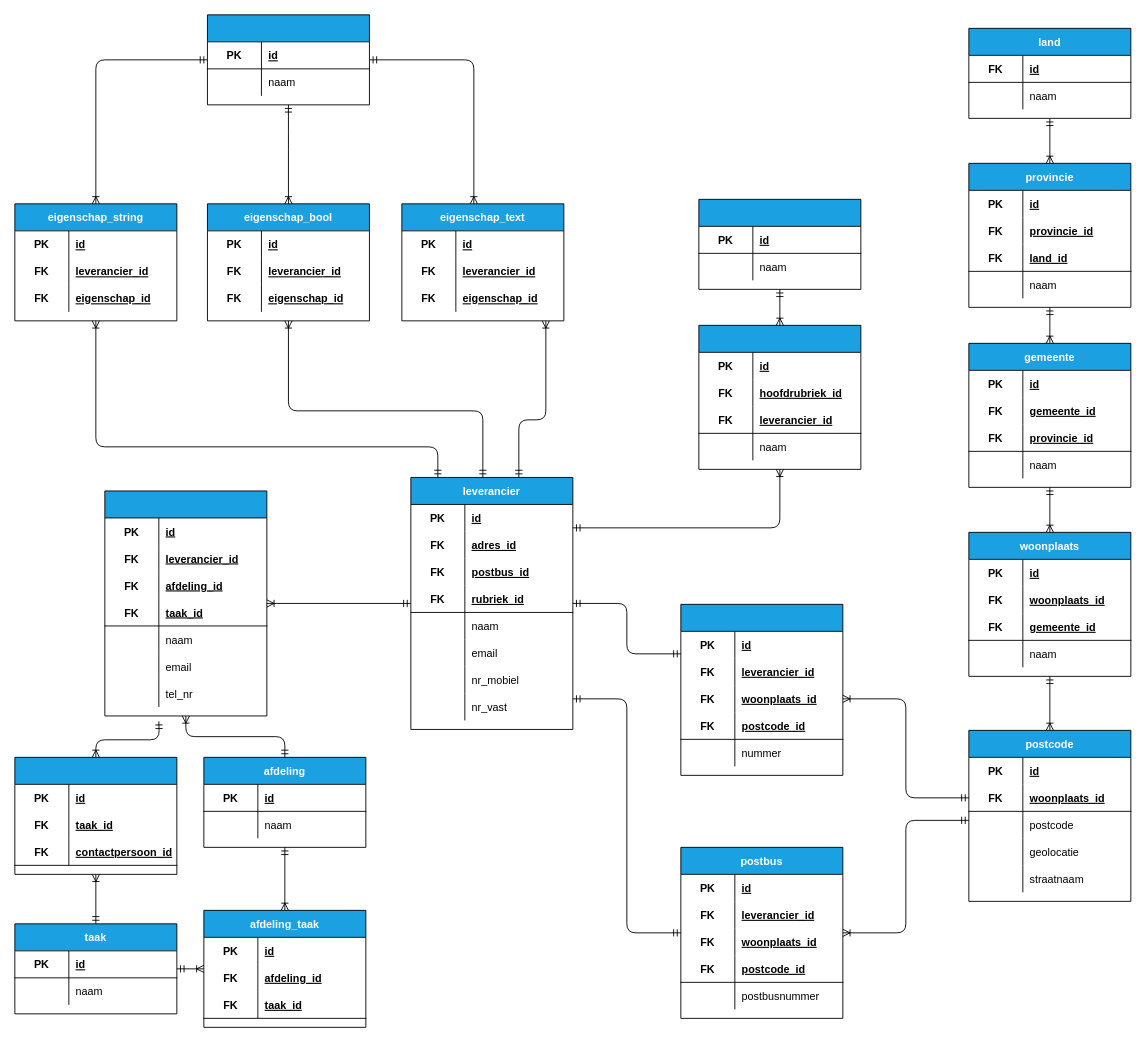
This 1146x1042 diagram has some shape labels left out. The box of each missing label's shape, as (x1, y1, x2, y2) in pixels:
adres: (680, 603, 843, 775)
contactpersoon: (104, 490, 267, 716)
contactpersoon_taak: (14, 756, 177, 874)
eigenschap: (207, 14, 369, 105)
hoofdrubriek: (698, 198, 861, 289)
subrubriek: (698, 324, 861, 469)
